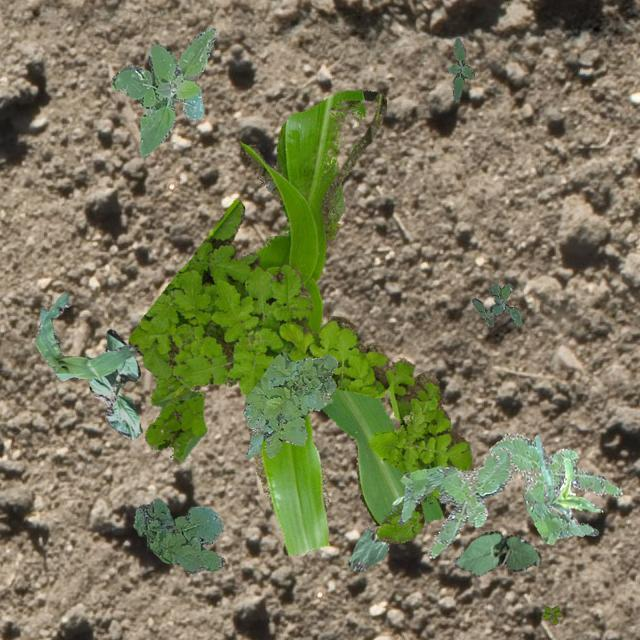crop: (240, 90, 444, 554), (34, 290, 136, 380), (534, 434, 598, 536), (86, 328, 142, 438), (450, 530, 540, 576), (348, 496, 403, 570), (318, 163, 344, 240)
weed: (128, 198, 472, 542), (488, 432, 620, 544), (110, 27, 214, 156), (396, 446, 514, 558), (242, 351, 336, 456), (132, 498, 224, 572), (144, 376, 206, 464), (470, 282, 520, 326), (446, 36, 474, 100), (542, 604, 560, 624)
